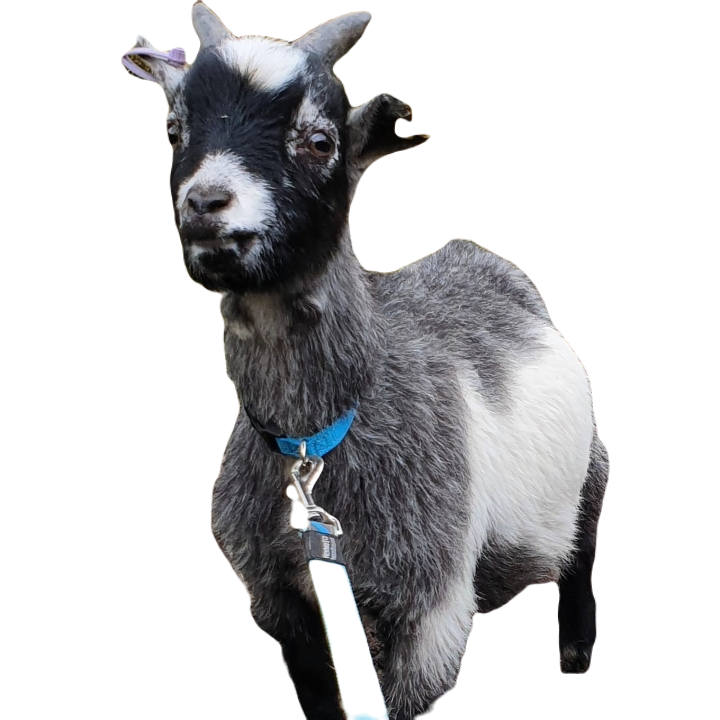Goat: (118, 2, 612, 719)
